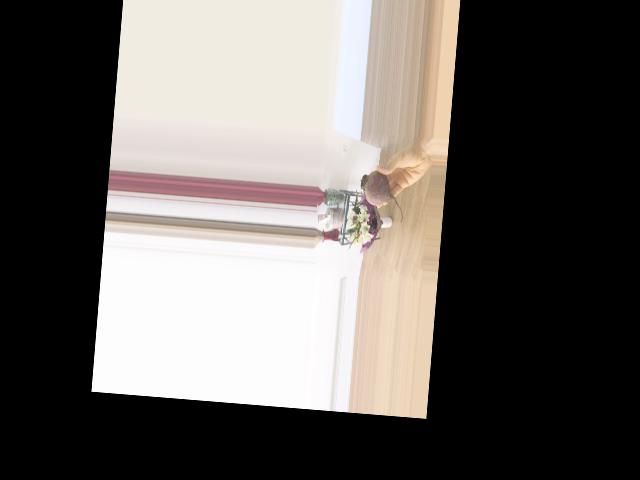beet: (357, 169, 406, 224)
